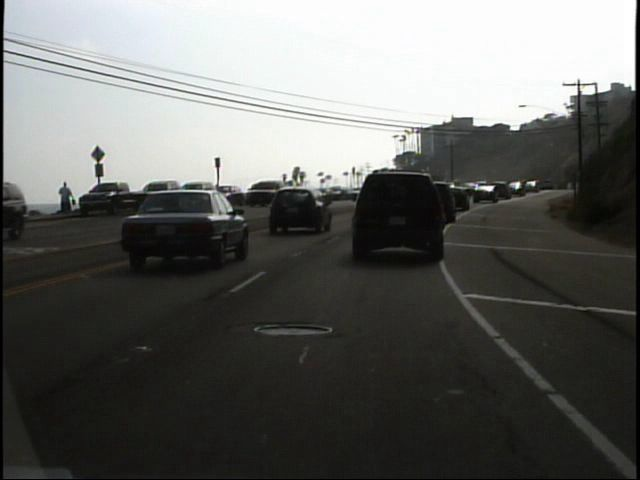person: (57, 179, 78, 220)
